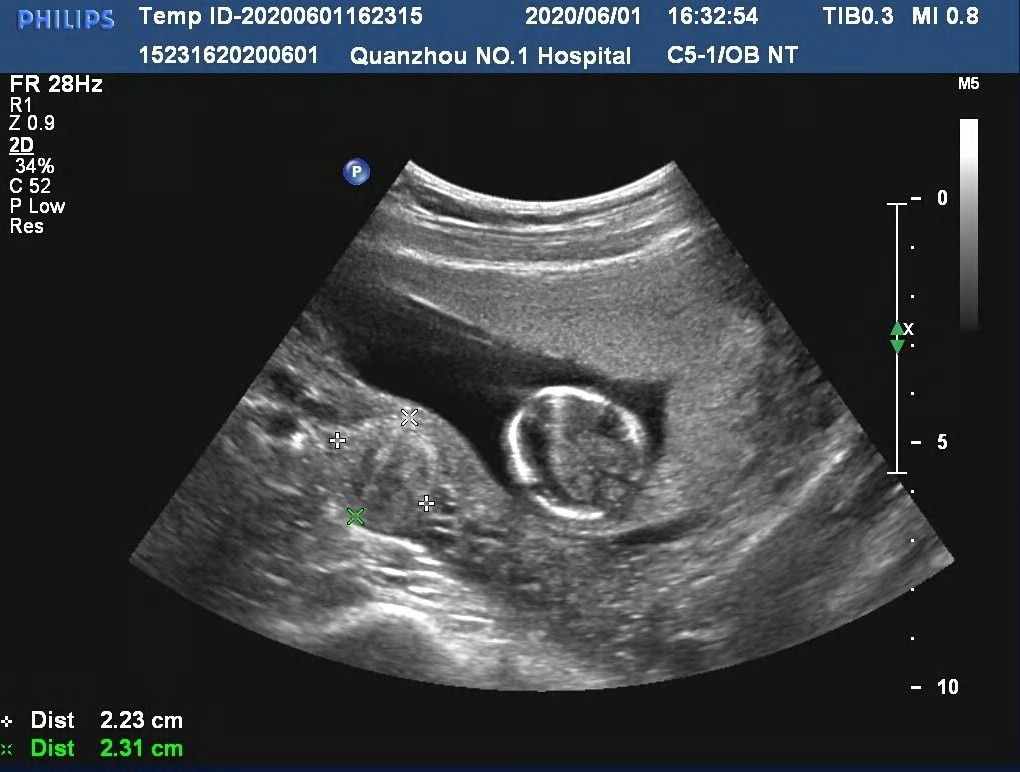肌瘤: (333, 416, 435, 529)
